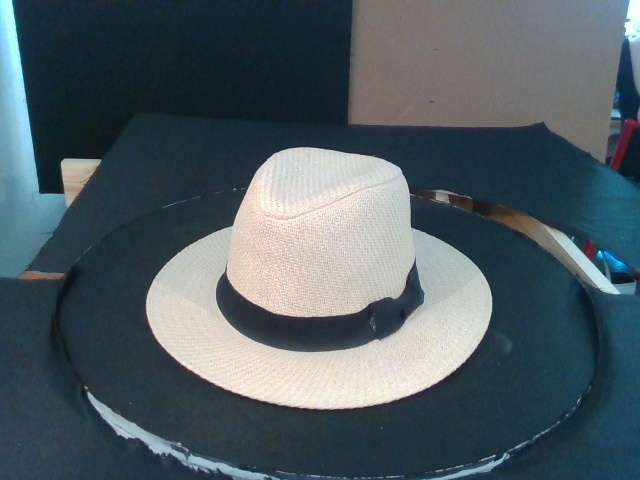hat: (144, 147, 493, 411)
